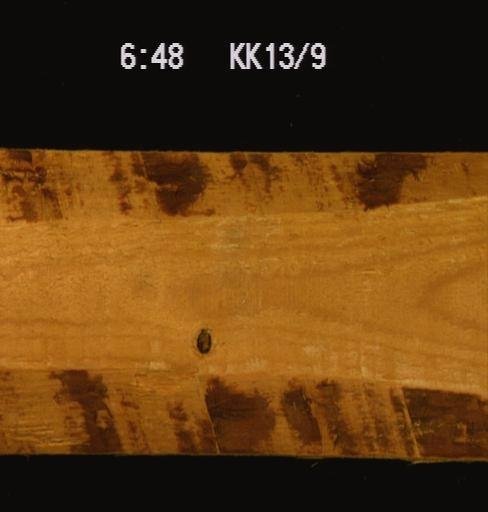dry_knot: (192, 322, 213, 356)
wave: (0, 368, 487, 461), (0, 151, 487, 216)
